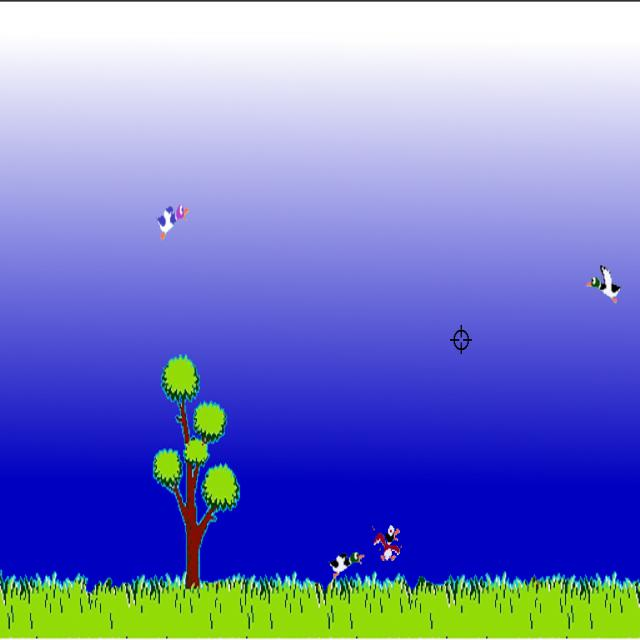duck: (582, 260, 630, 314), (154, 200, 192, 244), (326, 542, 365, 578)
falling_duck: (372, 522, 408, 570)
